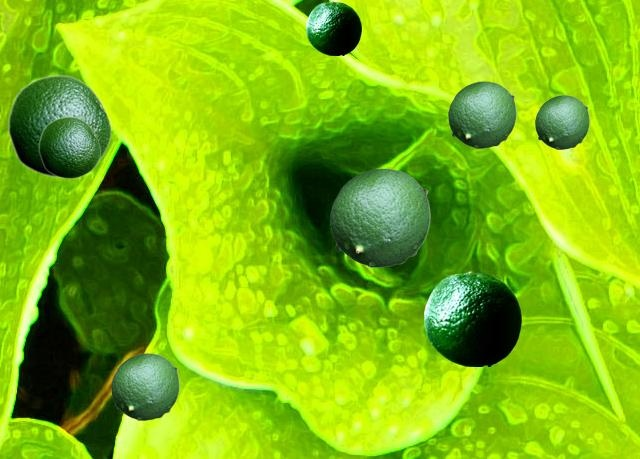calamansi: (7, 74, 111, 177), (330, 168, 429, 266), (424, 271, 520, 365), (111, 353, 178, 419), (448, 81, 515, 147), (38, 116, 100, 178), (306, 1, 360, 54), (535, 95, 588, 148)
